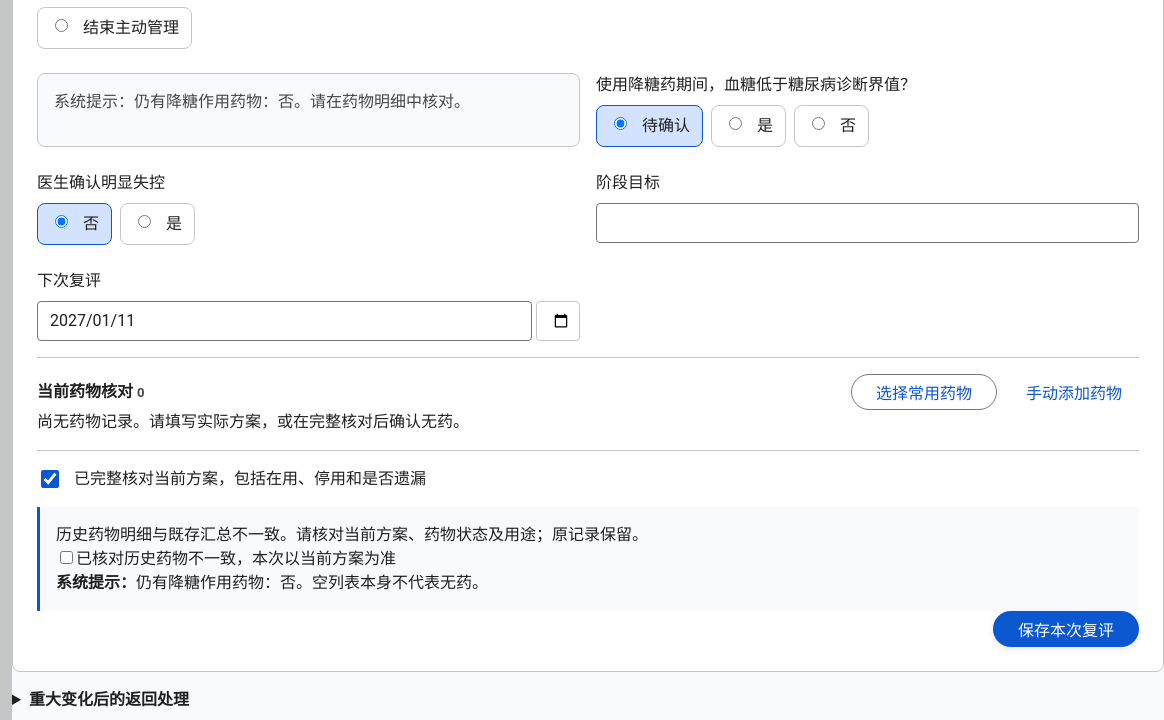
Test: v0.4临床交互 › 历史药物矛盾须本次明确核对，改药后撤销确认且不发送旧事实
(page scrolled)
Click the checkbox labelled "已核对历史药物不一致，本次以当前方案为准". click: (66, 557)
box: [60,550,73,564]
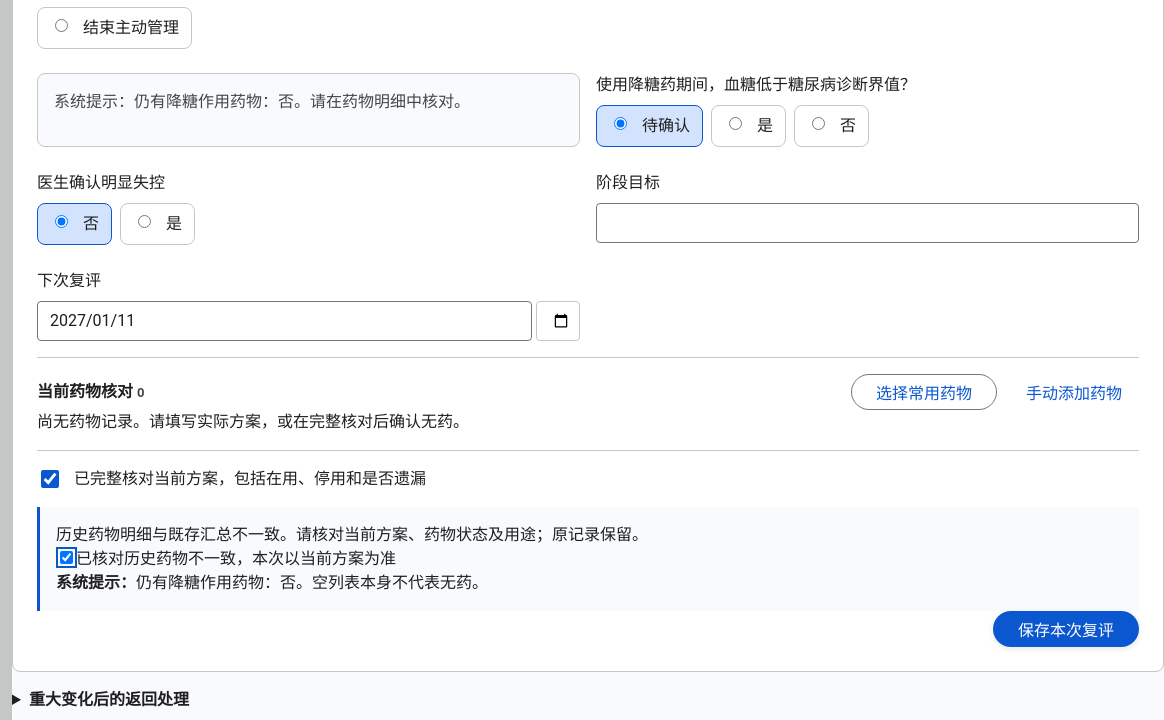
Expected: the checkbox labelled "已核对历史药物不一致，本次以当前方案为准" is checked, [60,550,73,564]
Click the button "手动添加药物". click: (1074, 392)
box: [1009,374,1139,410]
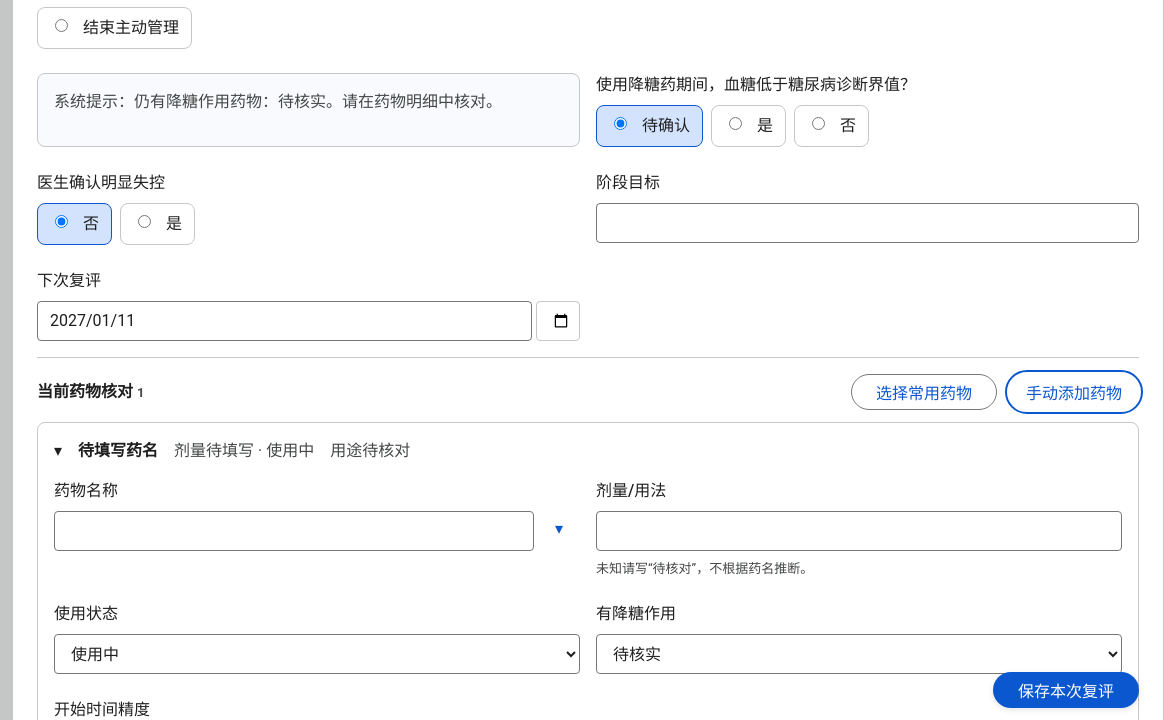
Click the button "保存本次复评". click: (1066, 690)
box: [993,672,1139,708]
(page scrolled)
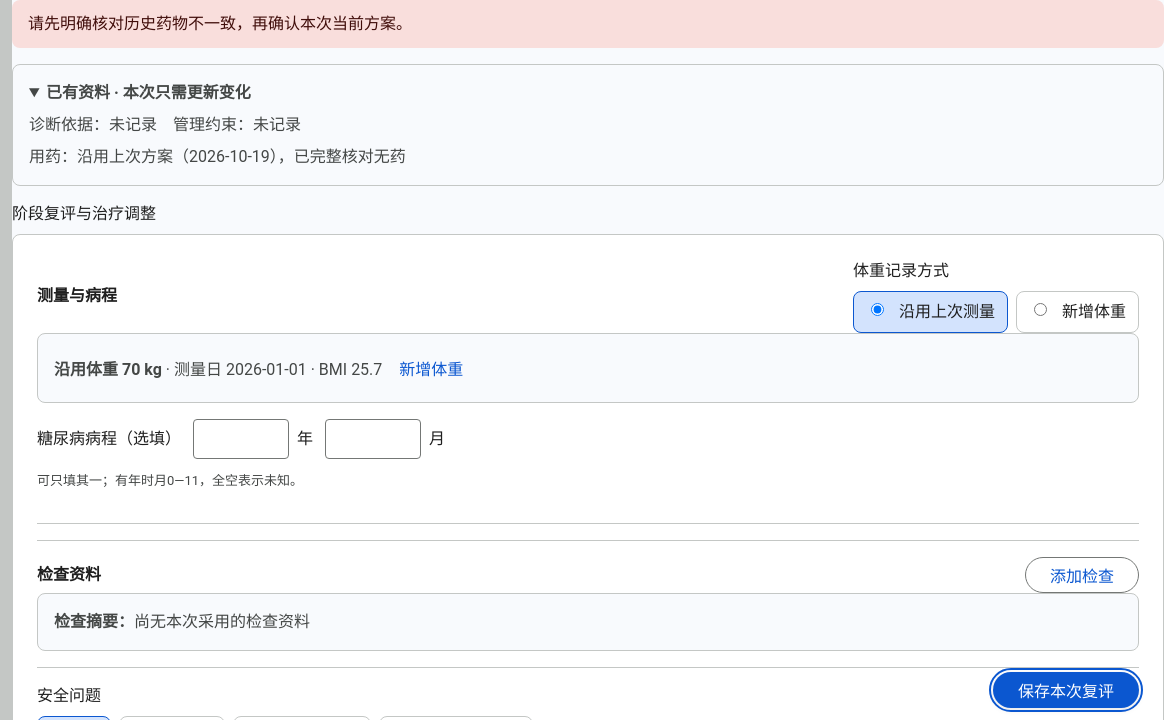
Expected: the text "请先明确核对历史药物不一致，再确认本次当前方案。" is shown, [28,12,412,36]
